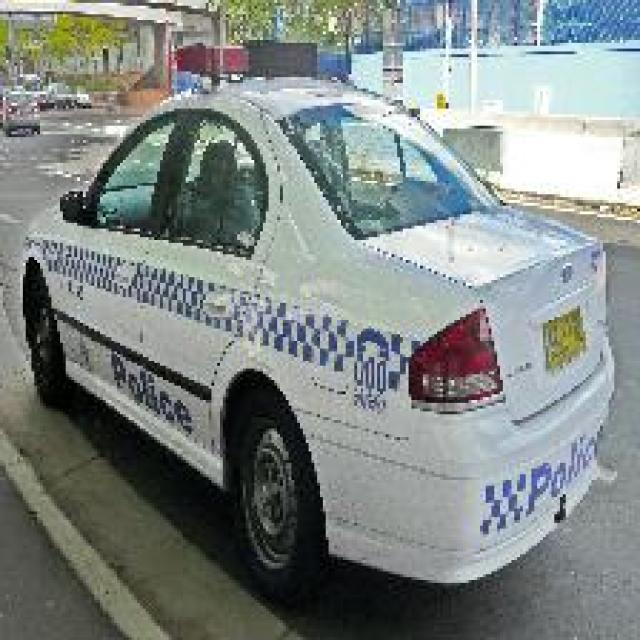emergency: (8, 68, 620, 600)
